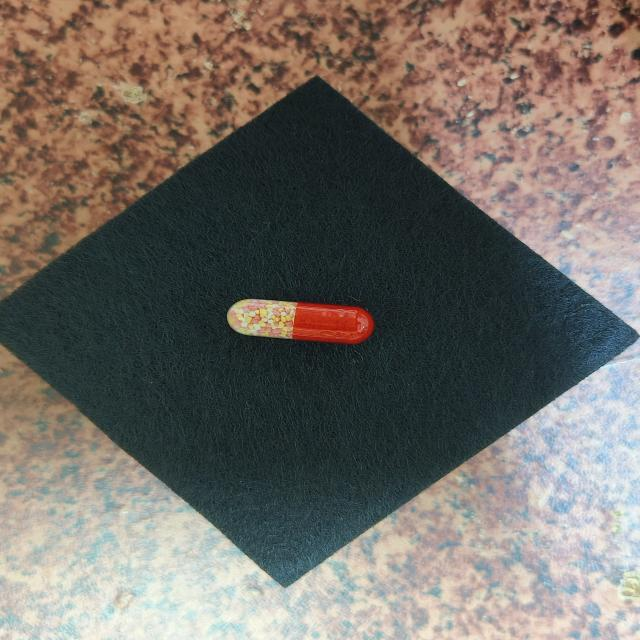Intact Capsule: (227, 299, 374, 344)
